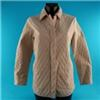camicia: (14, 7, 92, 98)
